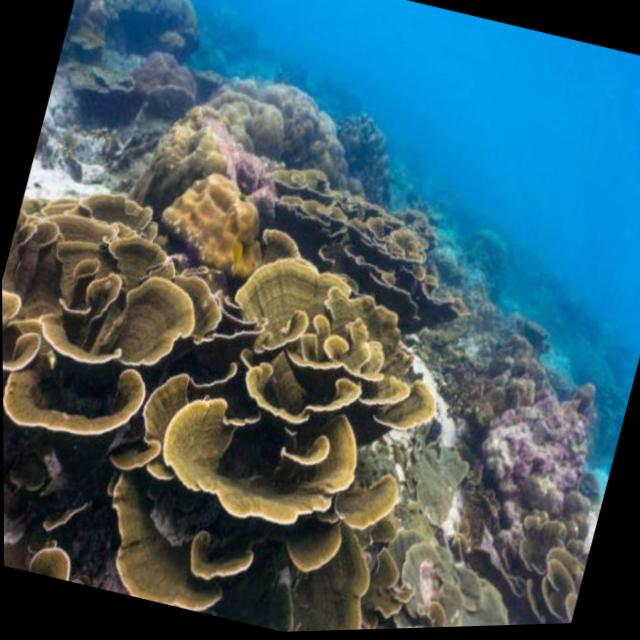Healthy Coral: (1, 177, 477, 640), (269, 156, 463, 278), (48, 0, 219, 131)
